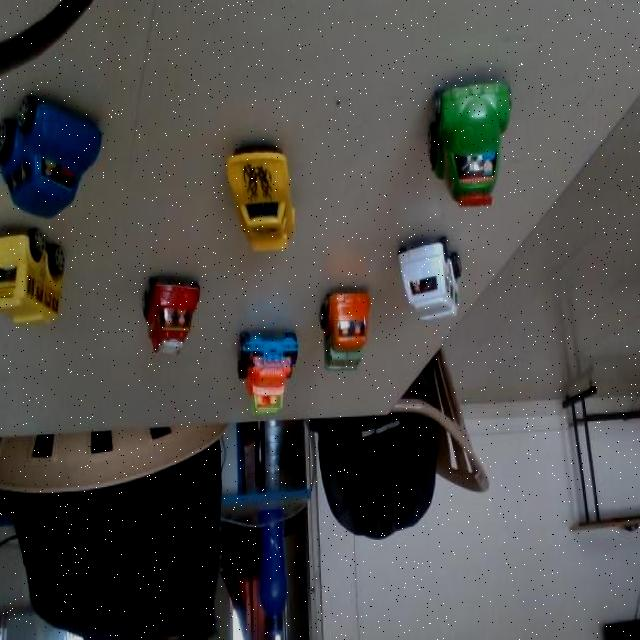car: (379, 0, 592, 254), (191, 116, 353, 264), (382, 209, 494, 346), (10, 94, 104, 217), (218, 322, 304, 432), (314, 270, 384, 391), (0, 225, 82, 324), (144, 264, 210, 358)
